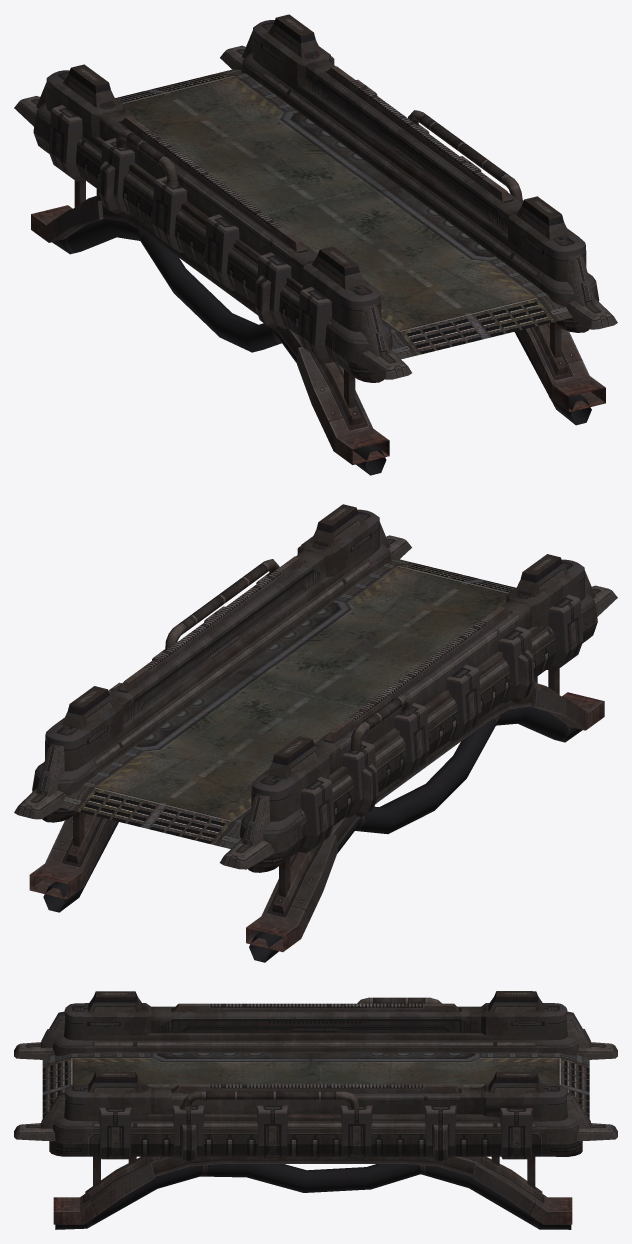
The model's file is marsarabridgelong_00.fbx.
3 views of the same model, one above another, from view 1: azimuth 30°, elevation 25°; view 2: azimuth 150°, elevation 25°; view 3: azimuth 270°, elevation 25° (orthographic). The views are drawn at different scales.
Visible parts, largest first — view 1: Geoset_0; view 2: Geoset_0; view 3: Geoset_0.
Boxes of the visible parts, x1,y1,x2,y2 form: Geoset_0: (14, 14, 617, 475); Geoset_0: (14, 504, 617, 962); Geoset_0: (14, 991, 617, 1229).
Size of the model in its own units: 6.35 by 4.22 by 15.1.
1 material, 1 textured.
